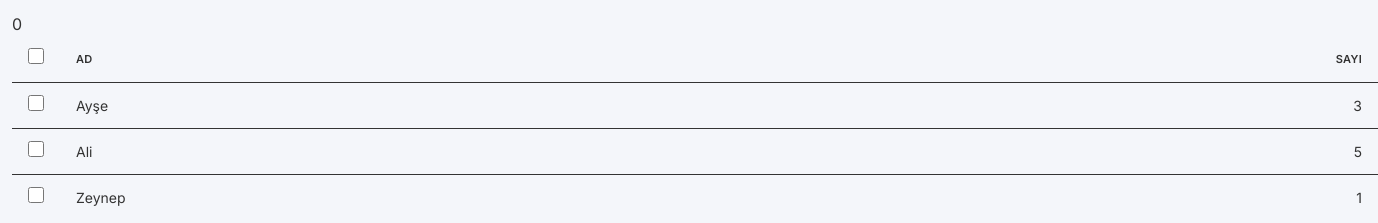
Test: DataTable › tekil ve sayfa seçimi çalışır
Step 1. Click the checkbox with test id "select-row" next to "Ayşe" → (36, 103), box [28,95,44,111]
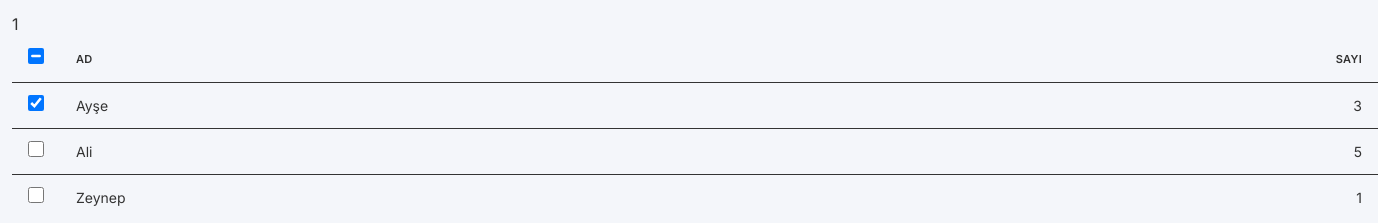
Now the text with test id "count" reads "1", box [12,14,18,34]
Step 2. Click the checkbox with test id "select-page" → (36, 56), box [28,48,44,64]
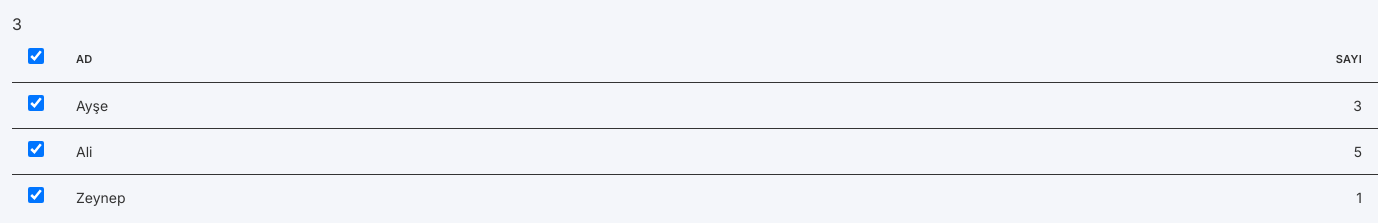
Now the text with test id "count" reads "3", box [12,14,22,34]
Step 3. Click the checkbox with test id "select-page" → (36, 56), box [28,48,44,64]
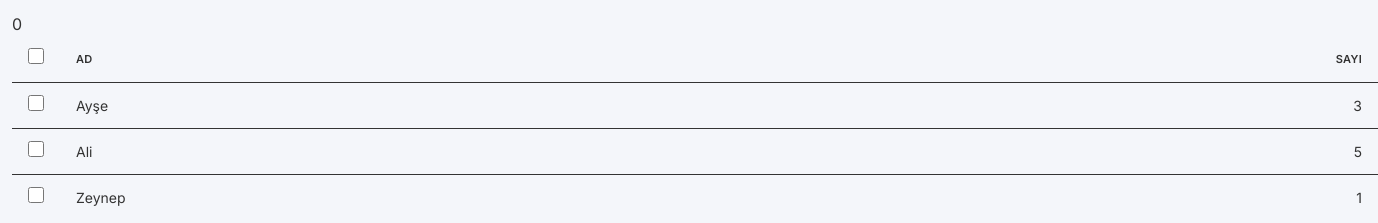
Now the text with test id "count" reads "0", box [12,14,22,34]
